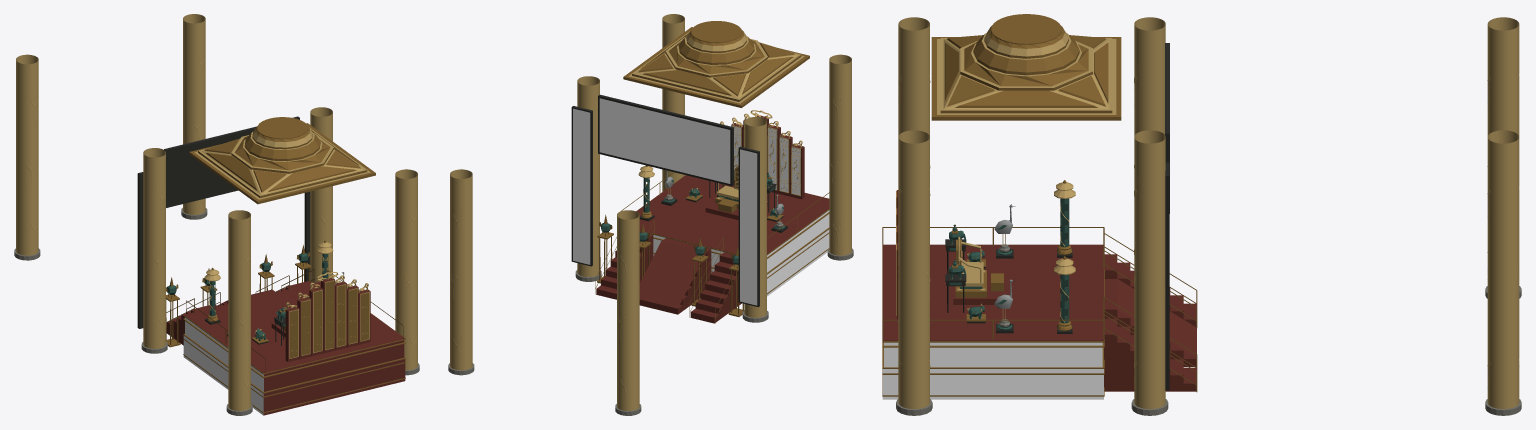
The model's file is taihe-dais-front-5dc82d83258d.glb.
The picture shows the model from 3 angles, left to right: view 1: azimuth 30°, elevation 25°; view 2: azimuth 150°, elevation 25°; view 3: azimuth 270°, elevation 25°; orthographic projection. The views are drawn at different scales.
Parts seen in each view (by area): view 1: merged_taihe_gold, merged_taihe_dark_gold, merged_taihe_lacquer, merged_taihe_dark_wood, merged_taihe_glyph_atlas, throne_blue_waist, merged_taihe_stone; view 2: merged_taihe_gold, merged_taihe_glyph_atlas, merged_taihe_lacquer, merged_taihe_dark_gold, merged_taihe_dark_wood, merged_taihe_stone, throne_blue_waist; view 3: merged_taihe_gold, merged_taihe_lacquer, merged_taihe_dark_gold, merged_taihe_glyph_atlas, merged_taihe_dark_wood, throne_blue_waist, merged_taihe_stone.
Boxes of the visible parts, x1,y1,x2,y2 form: merged_taihe_gold: (16, 14, 417, 410); merged_taihe_dark_gold: (166, 117, 405, 413); merged_taihe_lacquer: (166, 272, 405, 415); merged_taihe_dark_wood: (137, 116, 342, 345); merged_taihe_glyph_atlas: (183, 317, 263, 415); throne_blue_waist: (167, 253, 328, 340); merged_taihe_stone: (14, 208, 419, 415); merged_taihe_gold: (450, 14, 851, 410); merged_taihe_glyph_atlas: (573, 98, 829, 305); merged_taihe_lacquer: (596, 115, 829, 323); merged_taihe_dark_gold: (595, 21, 829, 323); merged_taihe_dark_wood: (571, 94, 787, 307); merged_taihe_stone: (448, 194, 853, 415); throne_blue_waist: (601, 173, 785, 264); merged_taihe_gold: (896, 17, 1519, 409); merged_taihe_lacquer: (882, 190, 1196, 391); merged_taihe_dark_gold: (882, 14, 1197, 396); merged_taihe_glyph_atlas: (882, 342, 1103, 399); merged_taihe_dark_wood: (945, 43, 1169, 390); throne_blue_waist: (949, 198, 1069, 330); merged_taihe_stone: (896, 244, 1521, 415).
Size of the model in its own units: 9.63 by 11.27 by 20.25.
